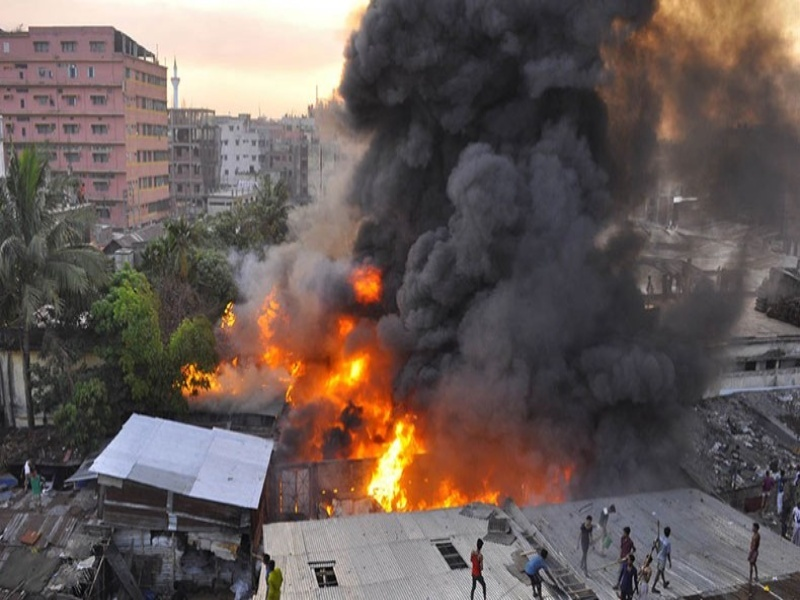smoke: (343, 1, 723, 473)
